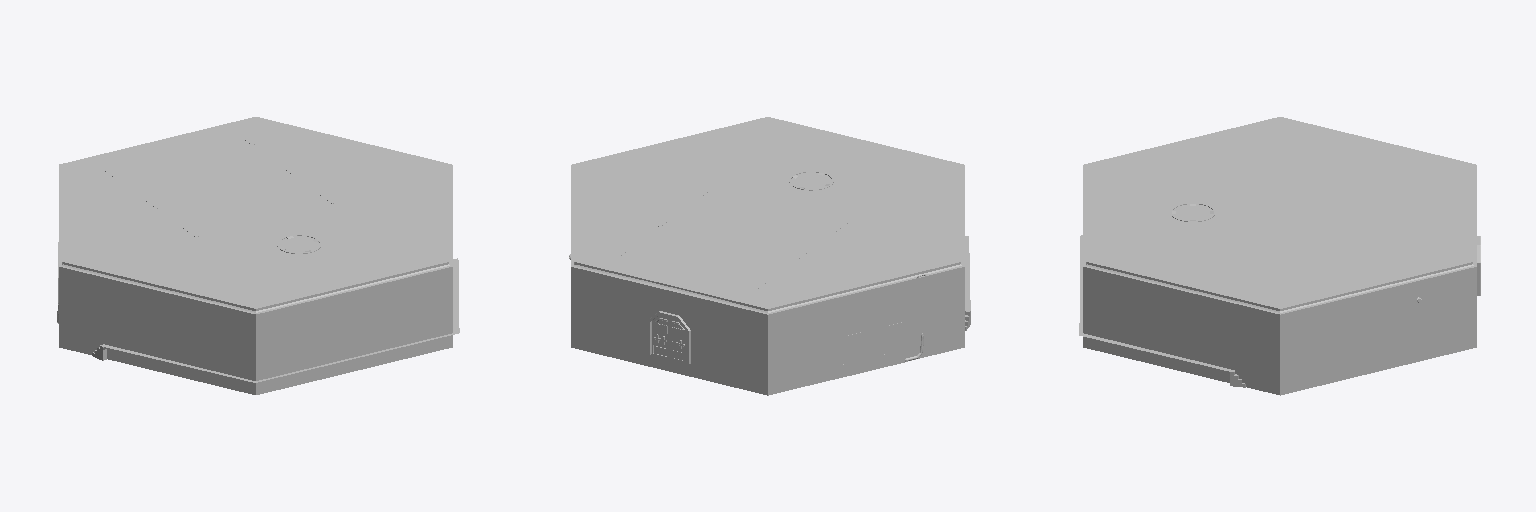
Rendered from Final Room.obj.
3 renders of one model, left to right at view 1: azimuth 30°, elevation 25°; view 2: azimuth 150°, elevation 25°; view 3: azimuth 270°, elevation 25°, orthographic.
Visible parts, largest first — view 1: pCube53; view 2: pCube53; view 3: pCube53.
Boxes of the visible parts, x1,y1,x2,y2 form: pCube53: [57, 117, 459, 394]; pCube53: [569, 117, 970, 395]; pCube53: [1079, 117, 1480, 395].
Size of the model in its own units: 233 by 49.36 by 205.